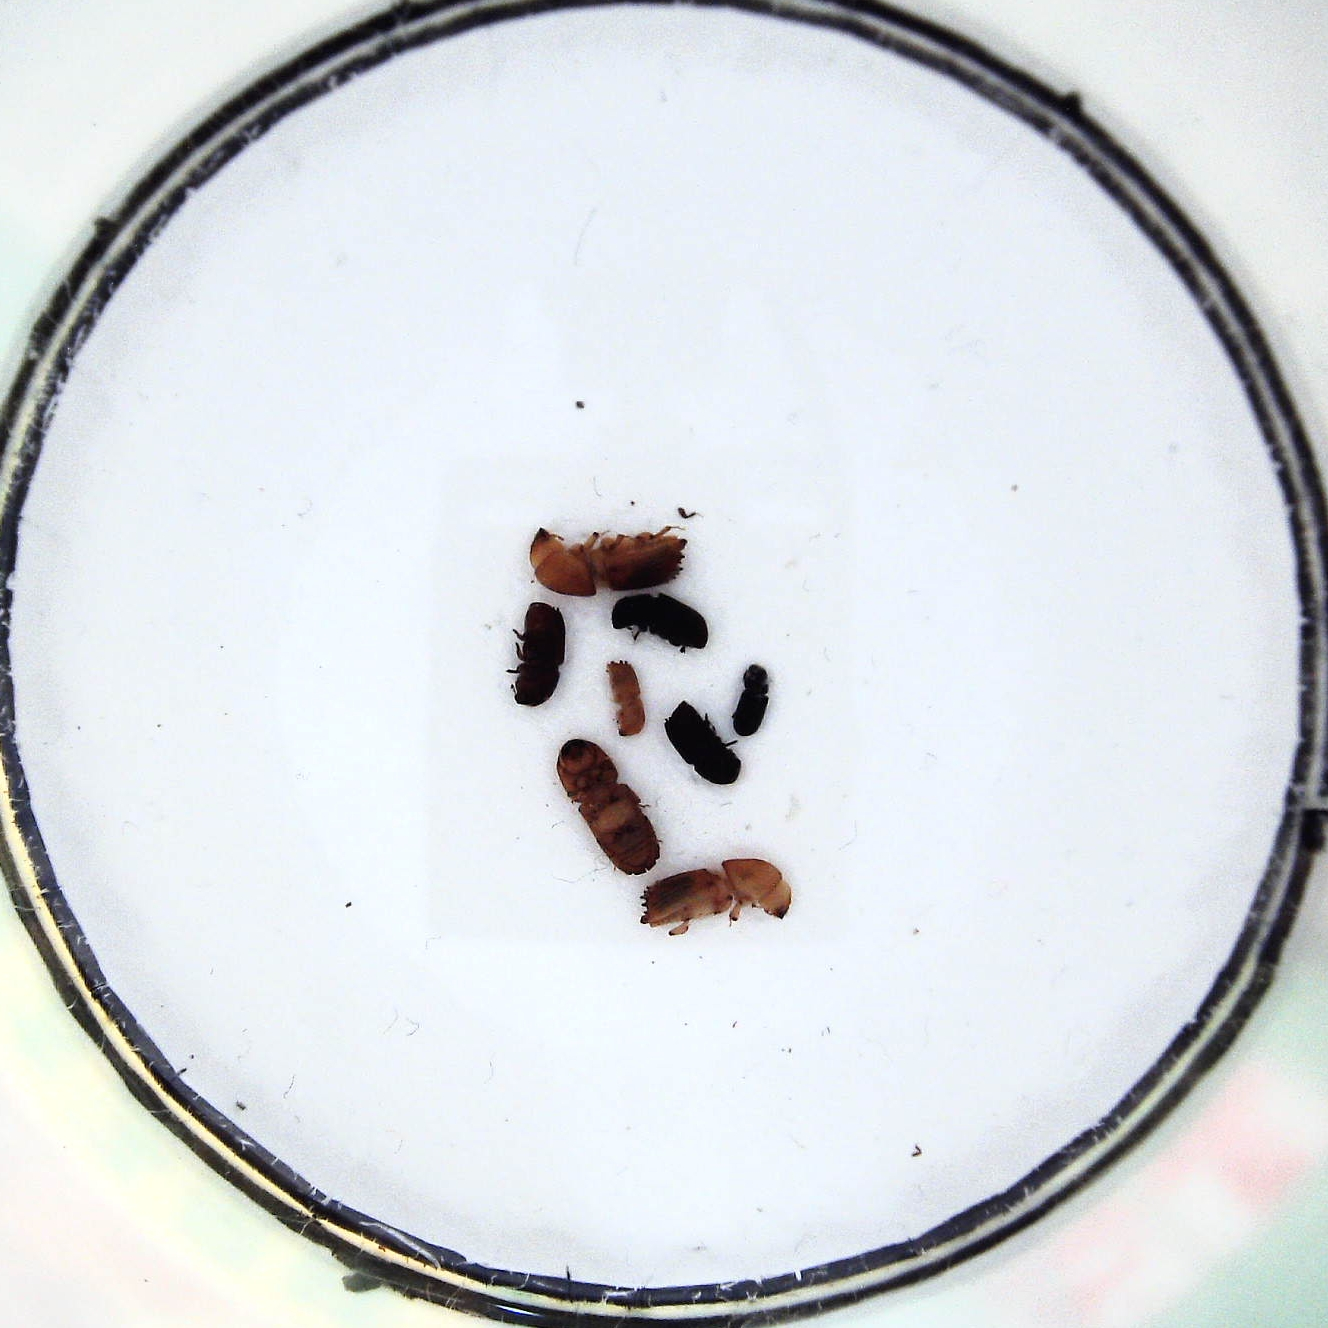Boerner: (557, 736, 662, 879), (527, 522, 693, 598), (636, 859, 793, 936)
Linnaeus: (663, 698, 743, 784), (506, 602, 565, 708)
acuminatus: (606, 658, 649, 739)
armandi: (612, 589, 713, 651)
coleoptera: (728, 662, 773, 738)
